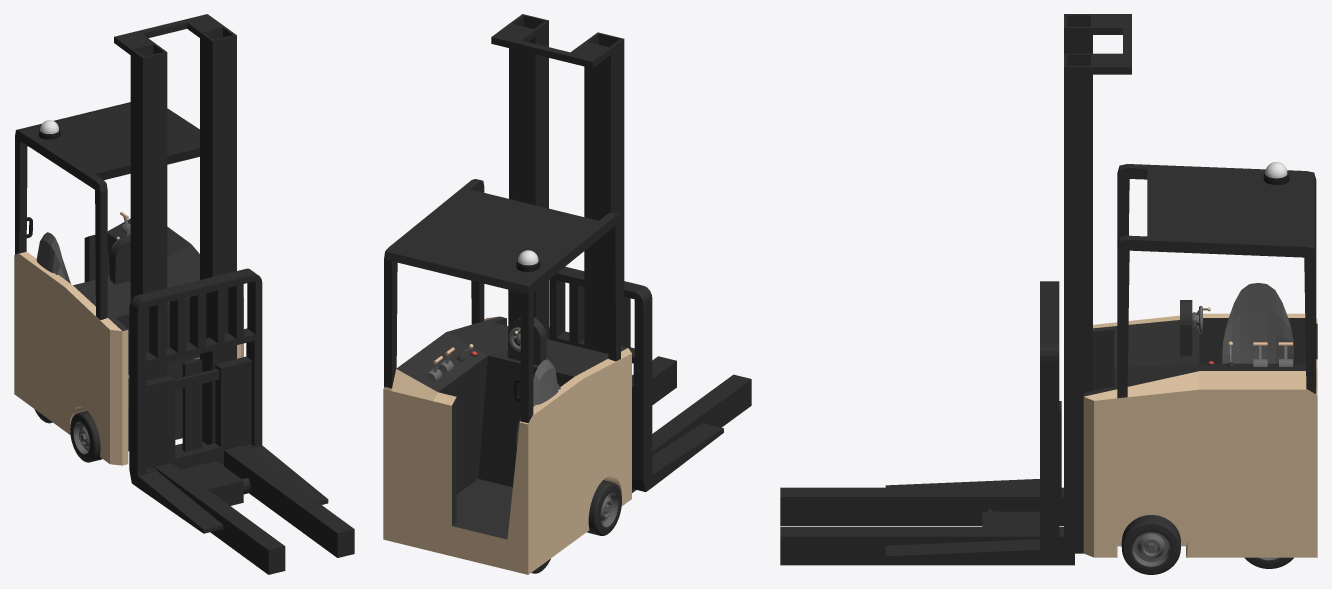
The model's file is Forklift_small.fbx.
3 views of the same model, side by side, from view 1: azimuth 30°, elevation 25°; view 2: azimuth 150°, elevation 25°; view 3: azimuth 270°, elevation 25° (orthographic). The views are drawn at different scales.
Visible parts, largest first — view 1: Pala.001, Estructura_pala.001, Cube.035, Cube.037, Cube.047, Cube.054, Ruedas_delanteras.004, Plane.001, Cylinder.044; view 2: Cube.035, Cube.037, Estructura_pala.001, Pala.001, Cube.047, Ruedas_delanteras.004, Plane.001, Cylinder.044; view 3: Cube.035, Cube.037, Cube.047, Estructura_pala.001, Pala.001, Plane.001, Ruedas_delanteras.005, Cube.054, Cylinder.044.
Part boxes in pixels (box(x1,y1,x2,y2)): Pala.001: box(129, 268, 328, 533); Estructura_pala.001: box(114, 14, 236, 452); Cube.035: box(14, 218, 243, 465); Cube.037: box(15, 102, 199, 320); Cube.047: box(154, 446, 354, 574); Cube.054: box(181, 461, 250, 505); Ruedas_delanteras.004: box(70, 411, 102, 462); Plane.001: box(36, 232, 70, 283); Cylinder.044: box(110, 237, 130, 284); Cube.035: box(383, 316, 631, 574); Cube.037: box(384, 179, 620, 423); Estructura_pala.001: box(491, 14, 624, 353); Pala.001: box(508, 266, 723, 491); Cube.047: box(632, 356, 751, 492); Ruedas_delanteras.004: box(587, 480, 621, 535); Plane.001: box(516, 359, 560, 447); Cylinder.044: box(507, 317, 546, 365); Cube.035: box(1083, 313, 1317, 557); Cube.037: box(1117, 164, 1316, 398); Cube.047: box(780, 487, 1074, 565); Estructura_pala.001: box(1064, 14, 1131, 553); Pala.001: box(885, 281, 1061, 563); Plane.001: box(1222, 283, 1293, 363); Ruedas_delanteras.005: box(1121, 515, 1180, 574); Cube.054: box(982, 508, 1039, 526); Cylinder.044: box(1180, 300, 1192, 356).
Size of the model in its own units: 1.07 by 3.14 by 3.01.
